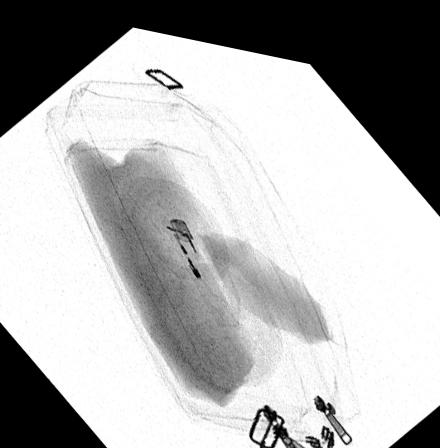Lighter: (161, 207, 241, 316)
